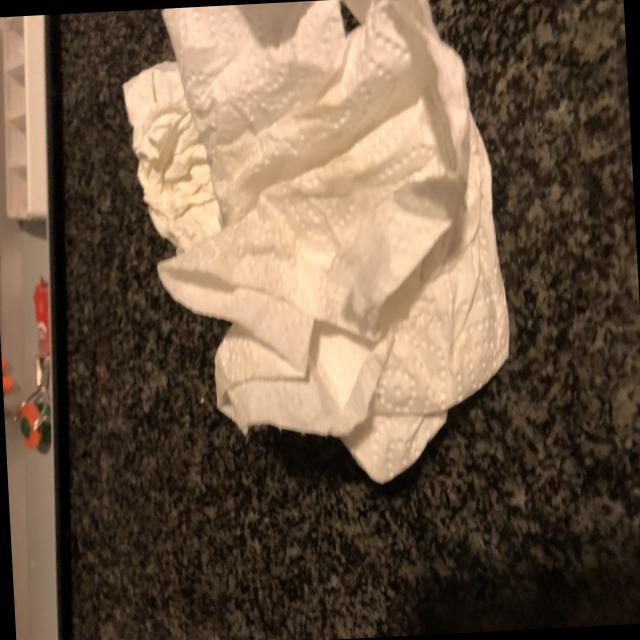organic waste: (112, 0, 518, 503)
